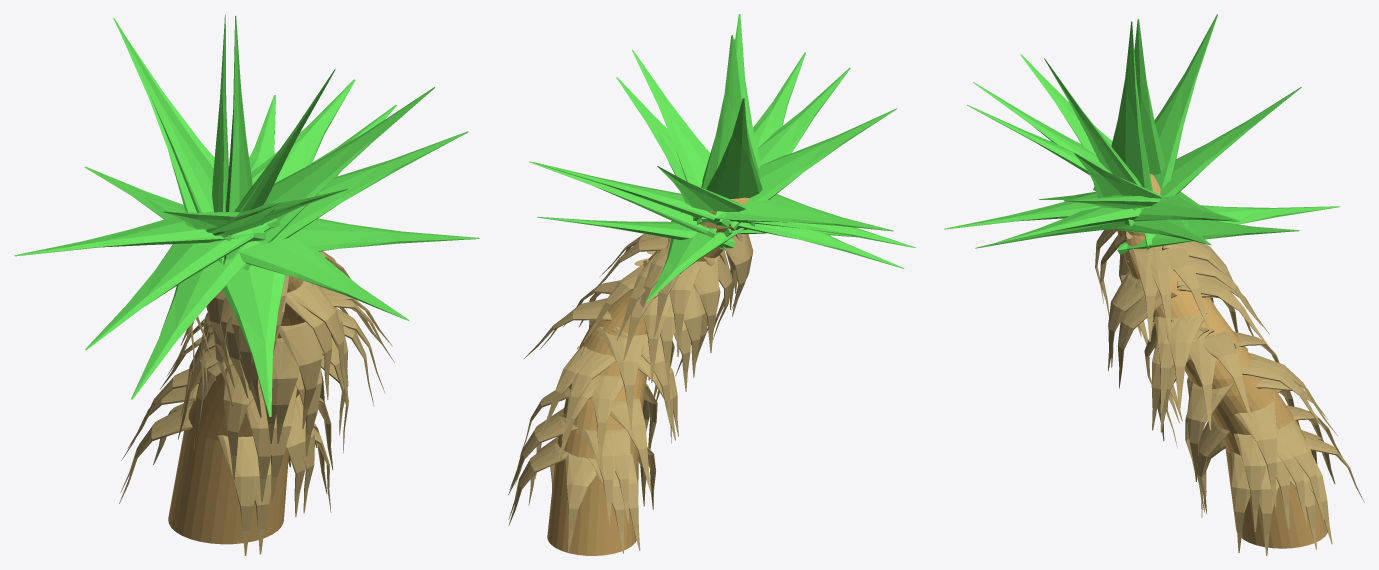
File: Juca2.fbx
3 views of the same model, side by side, from view 1: azimuth 30°, elevation 25°; view 2: azimuth 150°, elevation 25°; view 3: azimuth 270°, elevation 25° (orthographic). The views are drawn at different scales.
Visible parts, largest first — view 1: plant1.001, plant1.001|leaf1|Dupli|1, plant1.001|leaf1|Dupli|15, plant1.001|leaf1|Dupli|17, plant1.001|leaf1|Dupli|11, plant1.001|leaf1|Dupli|3, plant1.001|leaf1|Dupli|18, plant1.001|leaf1|Dupli|5, plant1.001|leaf1|Dupli|6, plant1.001|leaf1|Dupli|16, plant1.001|leaf1|Dupli|8, plant1.001|leaf1|Dupli|14 (+28 smaller); view 2: plant1.001, plant1.001|leaf1|Dupli|12, plant1.001|leaf1|Dupli|18, plant1.001|leaf1|Dupli|5, plant1.001|leaf1|Dupli|11, plant1.001|leaf1|Dupli|13, plant1.001|leaf1|Dupli|, plant1.001|leaf1|Dupli|14, plant1.001|leaf1|Dupli|2, plant1.001|leaf2|Dupli|51.1, plant1.001|leaf1|Dupli|3, plant1.001|leaf2|Dupli|0.1 (+34 smaller); view 3: plant1.001, plant1.001|leaf1|Dupli|8, plant1.001|leaf1|Dupli|18, plant1.001|leaf1|Dupli|10, plant1.001|leaf1|Dupli|7, plant1.001|leaf1|Dupli|2, plant1.001|leaf2|Dupli|54.1, plant1.001|leaf1|Dupli|19, plant1.001|leaf1|Dupli|14, plant1.001|leaf1|Dupli|16, plant1.001|leaf2|Dupli|57.1, plant1.001|leaf1|Dupli|15 (+32 smaller).
Boxes of the visible parts, bbox=[...] form: plant1.001: bbox=[168, 241, 305, 544]; plant1.001|leaf1|Dupli|1: bbox=[222, 265, 285, 416]; plant1.001|leaf1|Dupli|15: bbox=[237, 234, 409, 320]; plant1.001|leaf1|Dupli|17: bbox=[85, 218, 280, 350]; plant1.001|leaf1|Dupli|11: bbox=[243, 87, 434, 270]; plant1.001|leaf1|Dupli|3: bbox=[131, 241, 259, 399]; plant1.001|leaf1|Dupli|18: bbox=[113, 18, 224, 260]; plant1.001|leaf1|Dupli|5: bbox=[14, 216, 265, 256]; plant1.001|leaf1|Dupli|6: bbox=[275, 131, 468, 239]; plant1.001|leaf1|Dupli|16: bbox=[294, 218, 479, 251]; plant1.001|leaf1|Dupli|8: bbox=[223, 16, 252, 265]; plant1.001|leaf1|Dupli|14: bbox=[251, 79, 355, 184]; plant1.001: bbox=[547, 197, 749, 555]; plant1.001|leaf1|Dupli|12: bbox=[730, 108, 897, 230]; plant1.001|leaf1|Dupli|18: bbox=[706, 98, 762, 199]; plant1.001|leaf1|Dupli|5: bbox=[701, 194, 893, 231]; plant1.001|leaf1|Dupli|11: bbox=[632, 50, 710, 224]; plant1.001|leaf1|Dupli|13: bbox=[749, 67, 850, 226]; plant1.001|leaf1|Dupli|: bbox=[645, 221, 747, 302]; plant1.001|leaf1|Dupli|14: bbox=[533, 162, 730, 228]; plant1.001|leaf1|Dupli|2: bbox=[537, 216, 734, 249]; plant1.001|leaf2|Dupli|51.1: bbox=[596, 327, 643, 429]; plant1.001|leaf1|Dupli|3: bbox=[716, 219, 903, 268]; plant1.001|leaf2|Dupli|0.1: bbox=[565, 453, 596, 552]; plant1.001: bbox=[1117, 174, 1327, 548]; plant1.001|leaf1|Dupli|8: bbox=[1111, 21, 1152, 191]; plant1.001|leaf1|Dupli|18: bbox=[1154, 14, 1217, 188]; plant1.001|leaf1|Dupli|10: bbox=[1160, 87, 1301, 197]; plant1.001|leaf1|Dupli|7: bbox=[1134, 19, 1165, 175]; plant1.001|leaf1|Dupli|2: bbox=[1117, 219, 1299, 254]; plant1.001|leaf2|Dupli|54.1: bbox=[1235, 394, 1277, 506]; plant1.001|leaf1|Dupli|19: bbox=[1044, 58, 1142, 186]; plant1.001|leaf1|Dupli|14: bbox=[1133, 191, 1239, 221]; plant1.001|leaf1|Dupli|16: bbox=[996, 207, 1141, 243]; plant1.001|leaf2|Dupli|57.1: bbox=[1187, 381, 1234, 481]; plant1.001|leaf1|Dupli|15: bbox=[944, 193, 1150, 229].
Bounding box in the file's own units: 162 × 216 × 173.
